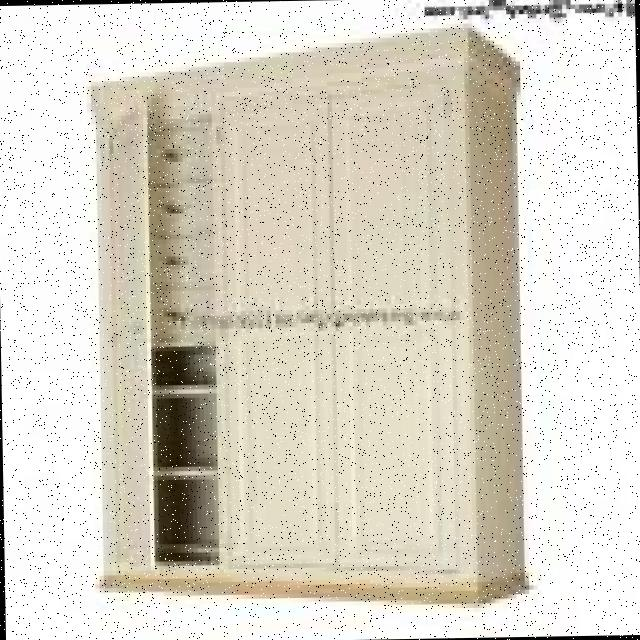Closet: (68, 14, 543, 626)
